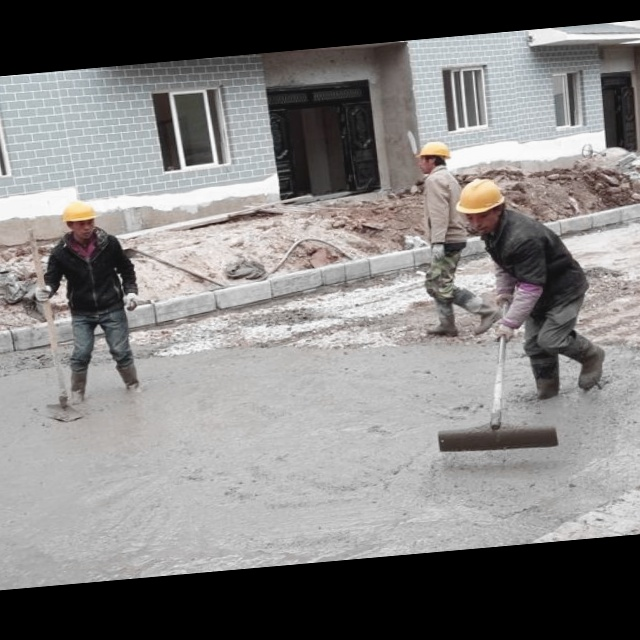Con_Casco: (454, 178, 505, 238), (57, 198, 100, 240), (414, 138, 456, 176)
